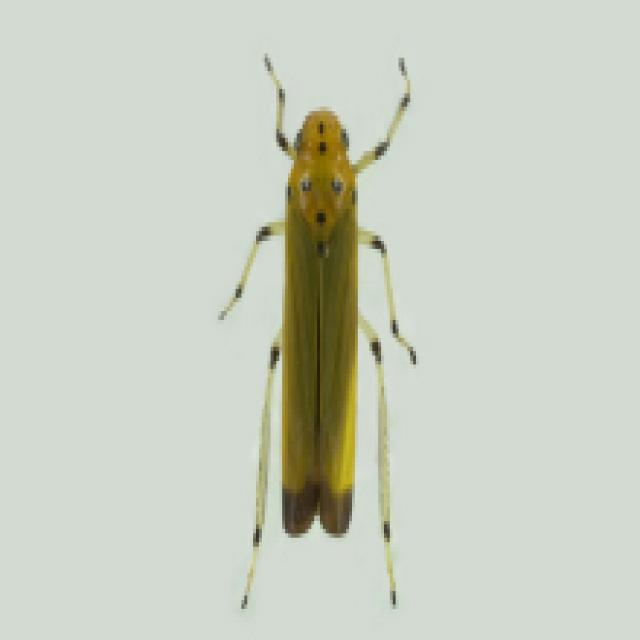Yechan: (261, 73, 406, 558)
